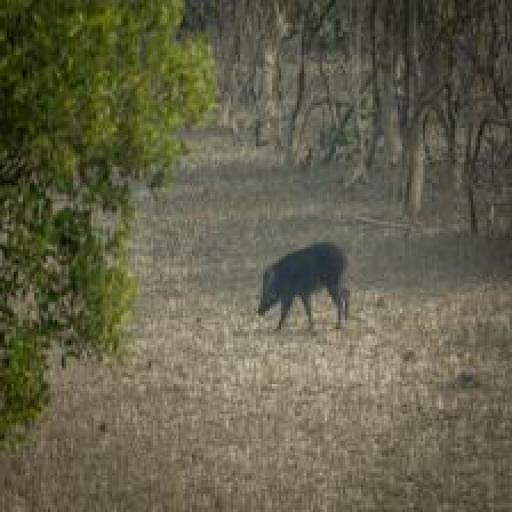Pig: (252, 236, 356, 329)
